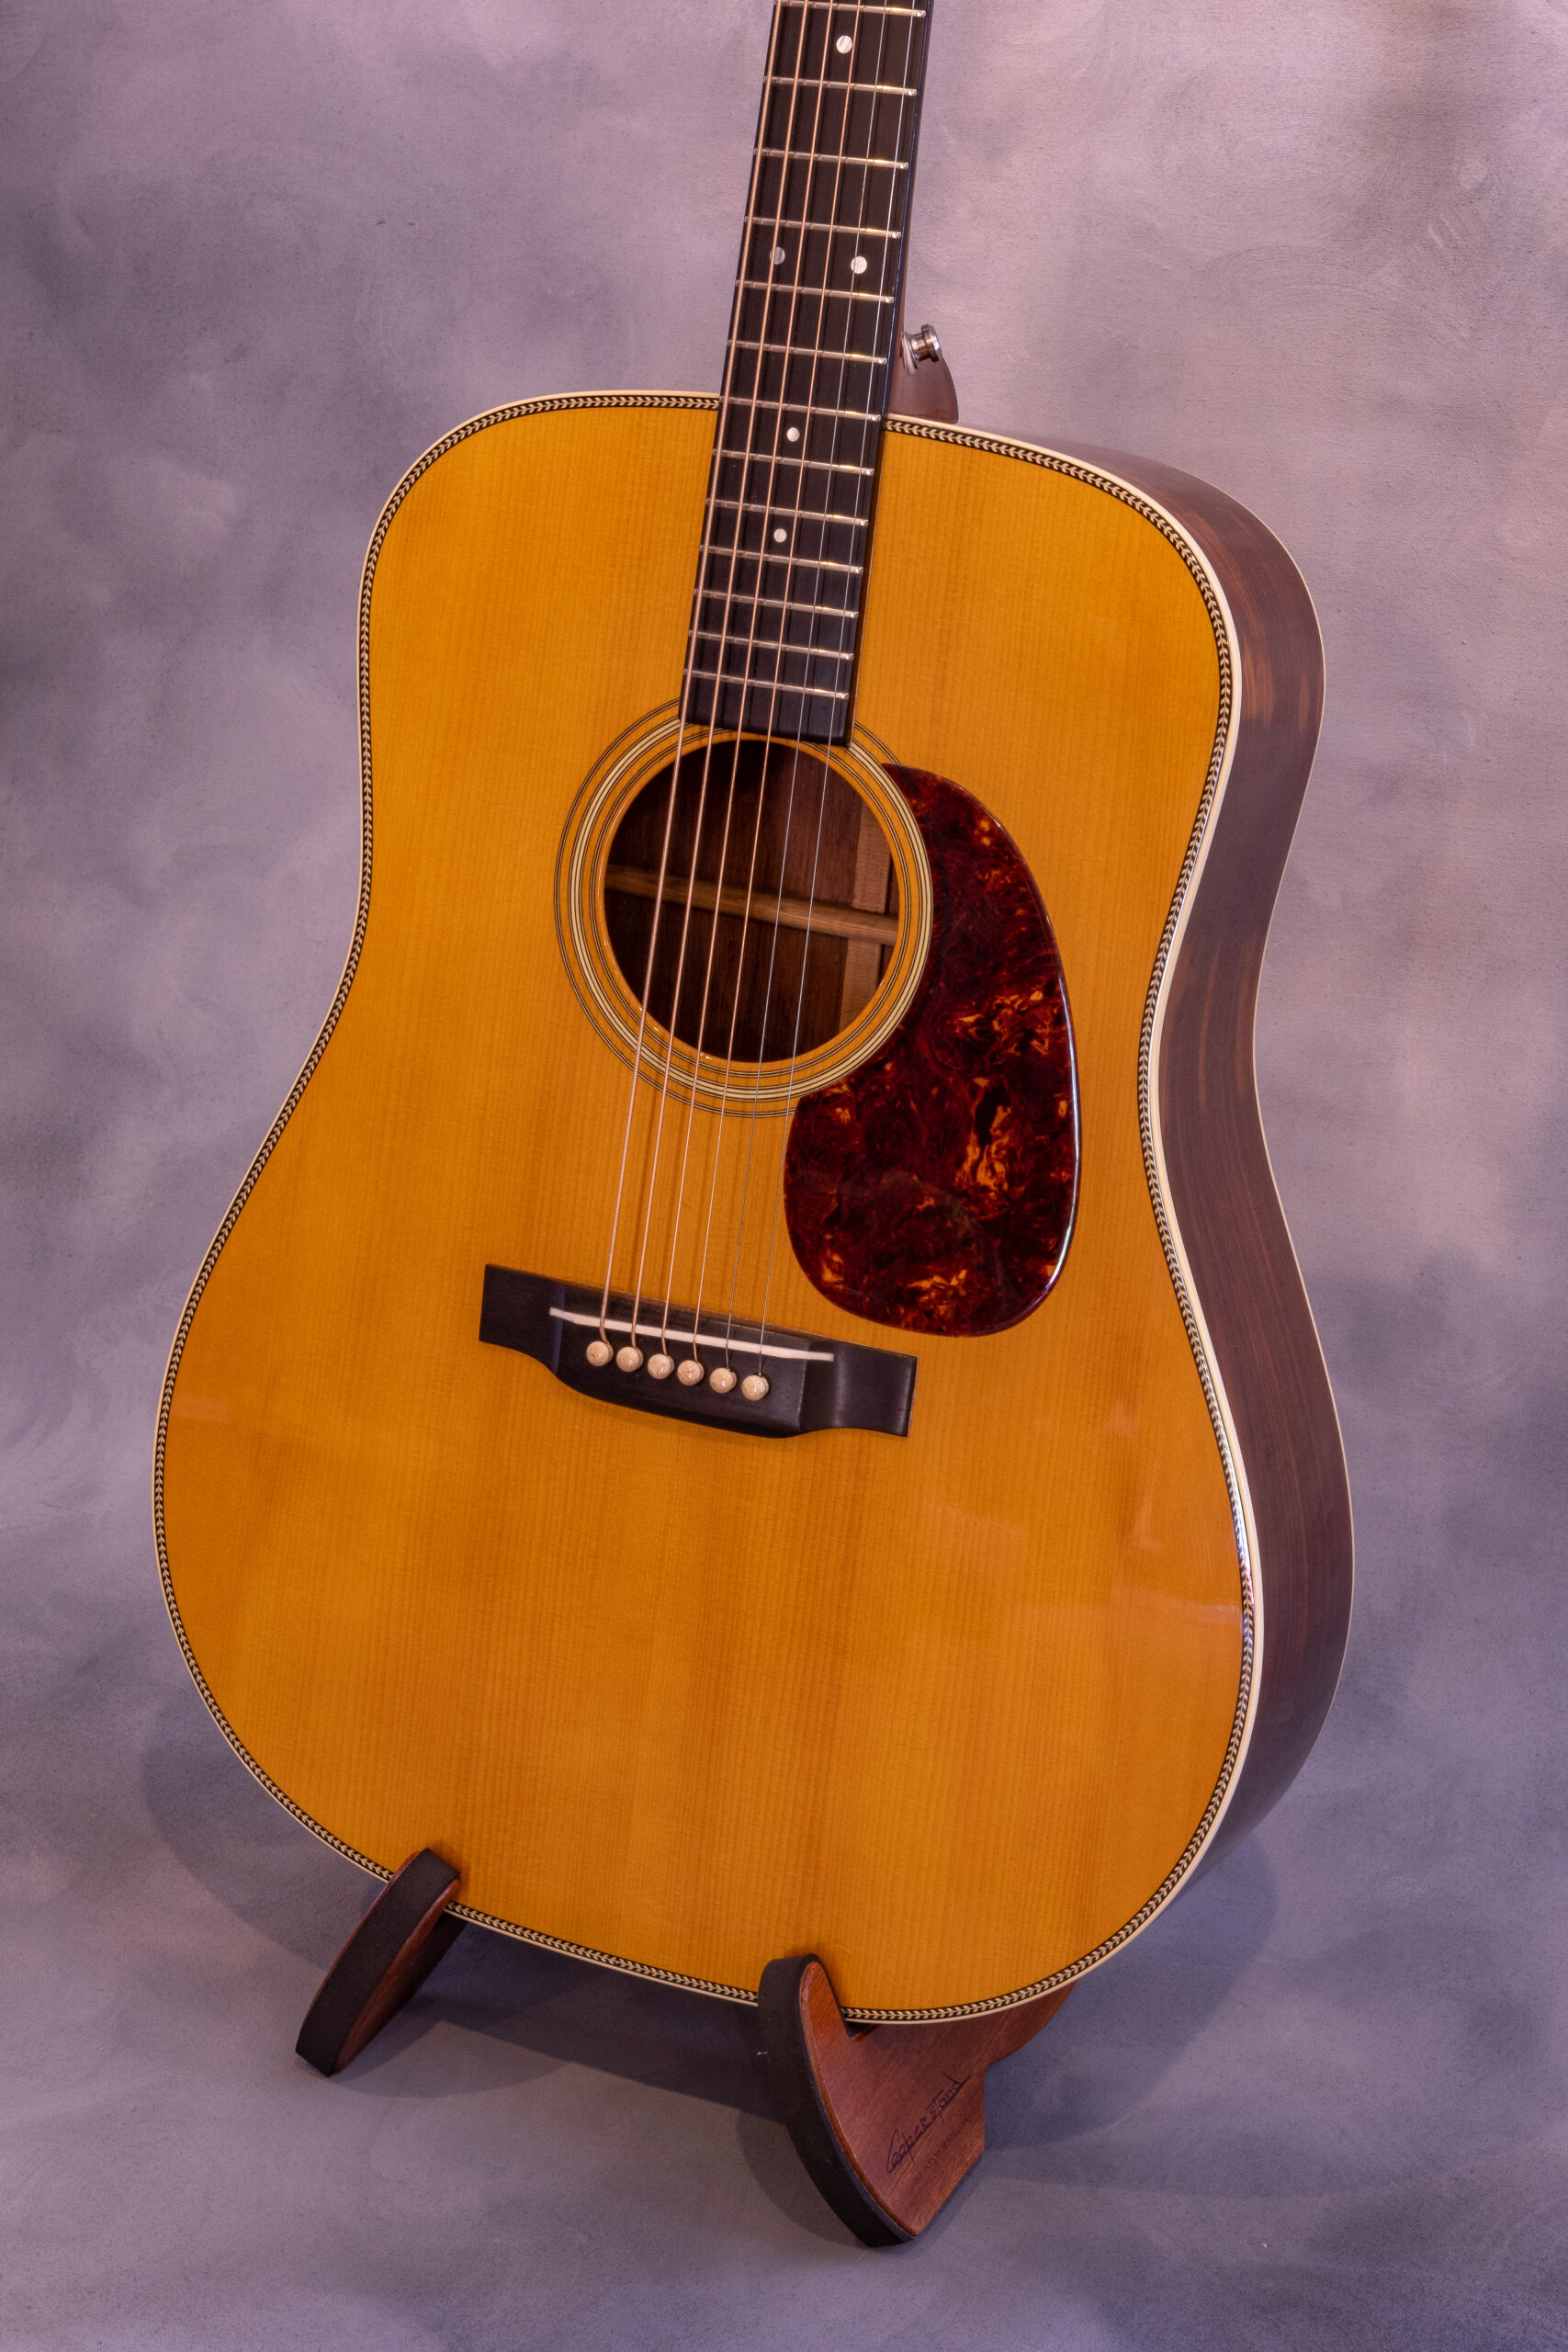guitar: (140, 332, 1365, 2247)
